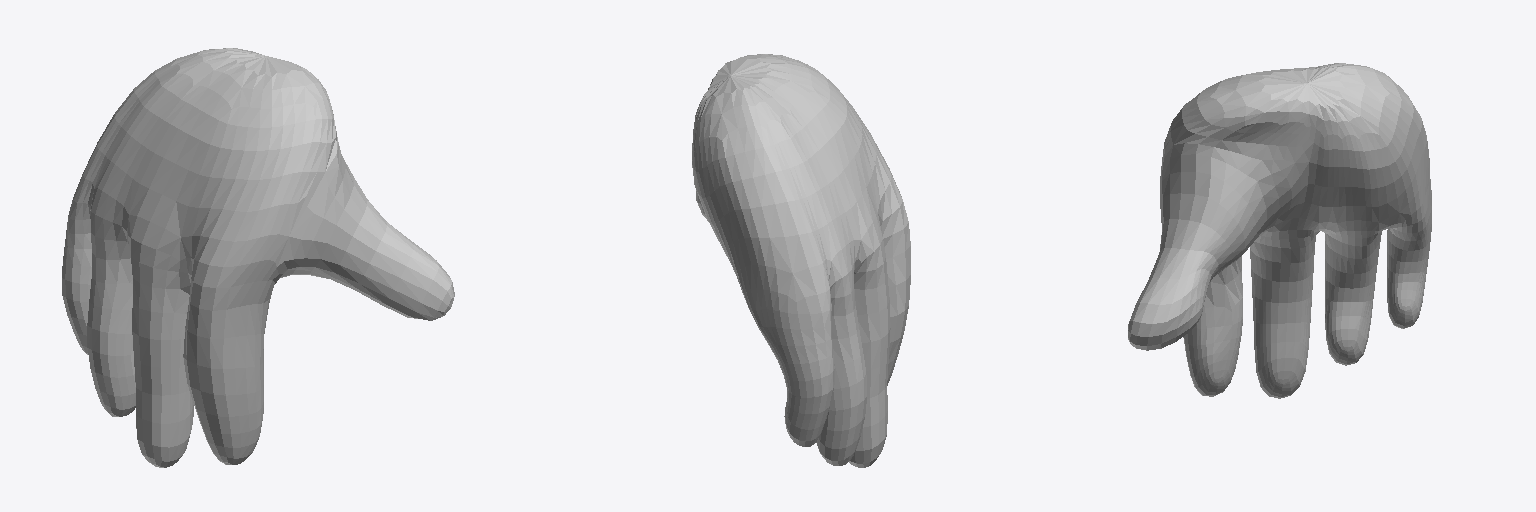
Rendered from handR.obj.
The picture shows the model from 3 angles: view 1: azimuth 30°, elevation 25°; view 2: azimuth 150°, elevation 25°; view 3: azimuth 270°, elevation 25°; orthographic projection.
Visible parts, largest first — view 1: uploads_files_[number redacted]_Guts_man:Mesh polySurface8; view 2: uploads_files_[number redacted]_Guts_man:Mesh polySurface8; view 3: uploads_files_[number redacted]_Guts_man:Mesh polySurface8.
Part boxes in pixels (x1,y1,x2,y2): uploads_files_[number redacted]_Guts_man:Mesh polySurface8: (62,48,454,467); uploads_files_[number redacted]_Guts_man:Mesh polySurface8: (692,54,910,467); uploads_files_[number redacted]_Guts_man:Mesh polySurface8: (1128,63,1431,398).
Bounding box in the file's own units: 0.2478 × 0.3406 × 0.2511.